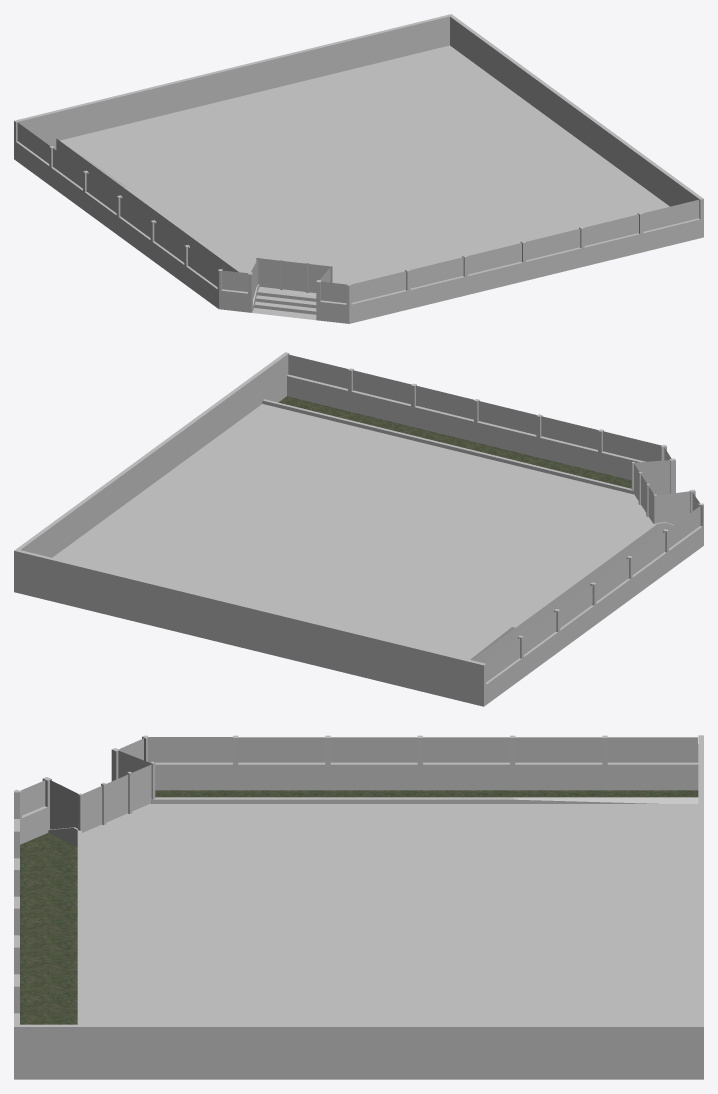
3 views of the same model, one above another, from view 1: azimuth 30°, elevation 25°; view 2: azimuth 150°, elevation 25°; view 3: azimuth 270°, elevation 25° (orthographic). The views are drawn at different scales.
Visible parts, largest first — view 1: Base-18; view 2: Base-18; view 3: Base-18.
Boxes of the visible parts, bbox=[...] form: Base-18: bbox=[14, 14, 703, 323]; Base-18: bbox=[14, 352, 703, 706]; Base-18: bbox=[14, 735, 703, 1079].
Size of what is drawn, in the model's own units: 36 by 3.09 by 36.
